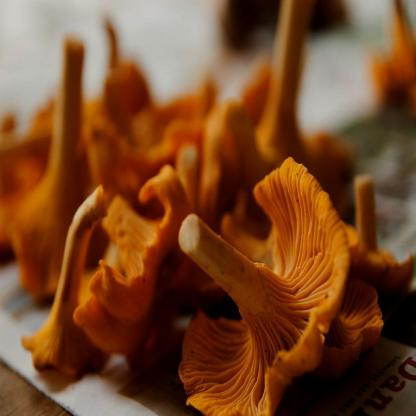chanterelle: (177, 156, 352, 414), (73, 164, 193, 375), (20, 183, 108, 381)
